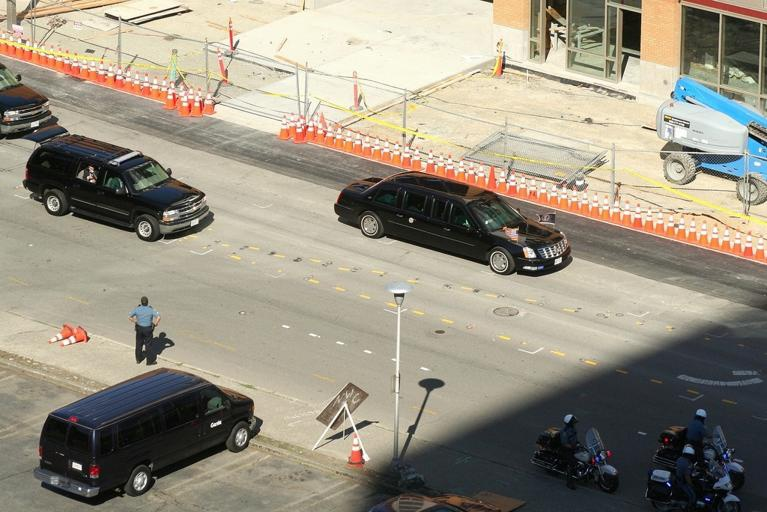non-vehicle: (526, 426, 621, 494), (644, 426, 746, 487), (642, 457, 744, 510)
